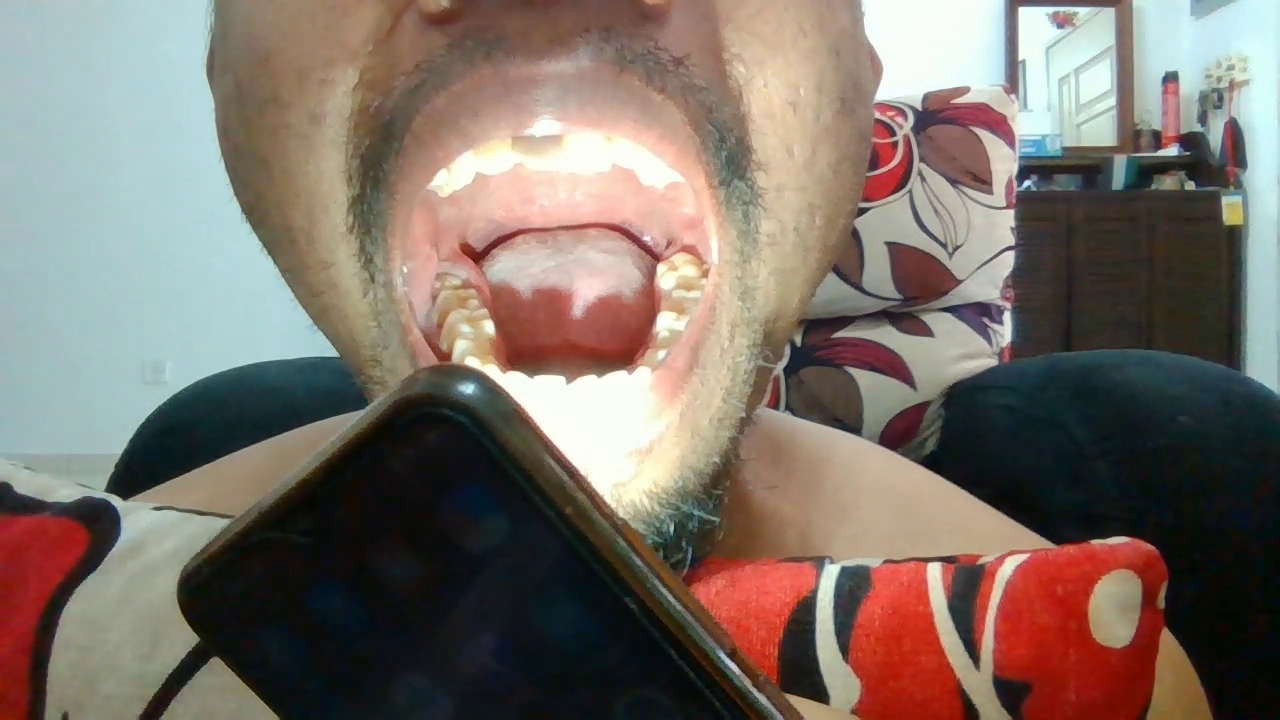1st Molar: (440, 308, 495, 336), (657, 299, 701, 329)
2nd Molar: (669, 276, 710, 299), (435, 289, 480, 308)
2nd Premolar: (451, 337, 492, 357), (649, 331, 683, 348)
3rd Molar: (654, 252, 703, 282), (432, 269, 465, 291)
Canine: (449, 150, 475, 192), (630, 365, 652, 399)
Central Incisor: (565, 135, 614, 173), (511, 135, 565, 162), (533, 375, 566, 405), (566, 374, 599, 404)
Lateral Incisor: (474, 141, 514, 175), (599, 369, 630, 407), (505, 370, 533, 404)
